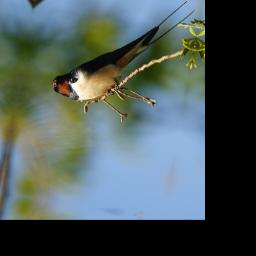Swallow: (50, 0, 197, 116)
